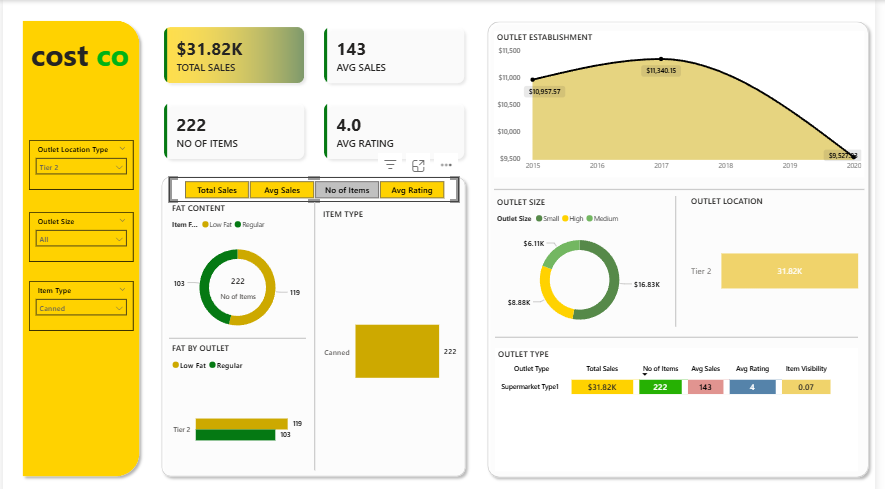

Layout of this report page (visuals, bound fields, positions):
{"tool":"powerbi","page":{"name":"Page 1","canvas":[1400,800],"ordinal":0},"visuals":[{"type":"shape","box":[22.5,24.1,205.6,750.2],"z":0},{"type":"textbox","box":[32.1,49.8,183.1,75.5],"z":1000},{"type":"cardVisual","fields":{"Data":["Costco Grocery Data.Total Sales","Costco Grocery Data.Avg Sales","Costco Grocery Data.No of Items","Costco Grocery Data.Avg Rating"]},"box":[230,14.3,540,270],"z":2000},{"type":"shape","box":[245.8,274.7,506,499.6],"z":3000},{"type":"donutChart","title":"FAT CONTENT","fields":{"Y":["Costco Grocery Data.Total Sales"],"Category":["Costco Grocery Data.Item Fat Content"]},"box":[267.1,324.3,220,230],"z":4000},{"type":"slicer","fields":{"Values":["Metrics.Metrics"]},"box":[267.1,284.3,465.7,40],"z":5000},{"type":"card","fields":{"Values":["Costco Grocery Data.Total Sales"]},"box":[338.6,432.9,77.1,58.6],"z":6000},{"type":"clusteredBarChart","title":"FAT BY OUTLET","fields":{"Y":["Costco Grocery Data.Total Sales"],"Category":["Costco Grocery Data.Outlet Location Type"],"Series":["Costco Grocery Data.Item Fat Content"]},"box":[267.1,550,220,230],"z":7000},{"type":"shape","box":[267.1,528.6,220,30],"z":8000},{"type":"shape","box":[497.1,324.3,8.6,431.4],"z":9000},{"type":"barChart","title":"ITEM TYPE","fields":{"Y":["Costco Grocery Data.Total Sales"],"Category":["Costco Grocery Data.Item Type"]},"box":[508.6,334.3,227.1,440],"z":10000},{"type":"shape","box":[770,25,630,750],"z":10001},{"type":"lineChart","title":"OUTLET ESTABLISHMENT","fields":{"Category":["Costco Grocery Data.Outlet Establishment Year"],"Y":["Costco Grocery Data.Total Sales"]},"box":[788.3,50,595,235],"z":10002},{"type":"shape","box":[788.3,285,595,40],"z":10003},{"type":"donutChart","title":"OUTLET SIZE","fields":{"Y":["Costco Grocery Data.Total Sales"],"Category":["Costco Grocery Data.Outlet Size"]},"box":[788.3,315,275,225],"z":10004},{"type":"shape","box":[1073.3,315,15,210],"z":10005},{"type":"funnel","title":"OUTLET LOCATION","fields":{"Category":["Costco Grocery Data.Outlet Location Type"],"Y":["Sum(Costco Grocery Data.Sales)"]},"box":[1100,313.3,283.3,226.7],"z":10006},{"type":"pivotTable","title":"OUTLET TYPE","fields":{"Rows":["Costco Grocery Data.Outlet Type"],"Values":["Costco Grocery Data.Total Sales","Costco Grocery Data.No of Items","Costco Grocery Data.Avg Sales","Costco Grocery Data.Avg Rating","Avg(Costco Grocery Data.Item Visibility)"]},"box":[790,558.3,583.3,198.3],"z":10007},{"type":"shape","box":[790,528.3,583.3,26.7],"z":10008},{"type":"slicer","fields":{"Values":["Costco Grocery Data.Outlet Location Type"]},"box":[41.7,225,168.3,80],"z":10009},{"type":"slicer","fields":{"Values":["Costco Grocery Data.Outlet Size"]},"box":[41.7,340,168.3,80],"z":10010},{"type":"slicer","fields":{"Values":["Costco Grocery Data.Item Type"]},"box":[41.7,451.7,168.3,80],"z":10011}]}

Visuals, with their boxes on the page's 1400x800 design canvas (x1, y1, x2, y2). These are canvas units, not pixel positions in the 885x489 screenshot, which may show the page scaled, cropped or inside an application window:
shape: 22/24/228/774
textbox: 32/50/215/125
cardVisual - Costco Grocery Data.Total Sales x Costco Grocery Data.Avg Sales: 230/14/770/284
shape: 246/275/752/774
"FAT CONTENT" donutChart: 267/324/487/554
slicer - Metrics.Metrics: 267/284/733/324
card - Costco Grocery Data.Total Sales: 339/433/416/492
"FAT BY OUTLET" clusteredBarChart: 267/550/487/780
shape: 267/529/487/559
shape: 497/324/506/756
"ITEM TYPE" barChart: 509/334/736/774
shape: 770/25/1400/775
"OUTLET ESTABLISHMENT" lineChart: 788/50/1383/285
shape: 788/285/1383/325
"OUTLET SIZE" donutChart: 788/315/1063/540
shape: 1073/315/1088/525
"OUTLET LOCATION" funnel: 1100/313/1383/540
"OUTLET TYPE" pivotTable: 790/558/1373/757
shape: 790/528/1373/555
slicer - Costco Grocery Data.Outlet Location Type: 42/225/210/305
slicer - Costco Grocery Data.Outlet Size: 42/340/210/420
slicer - Costco Grocery Data.Item Type: 42/452/210/532
